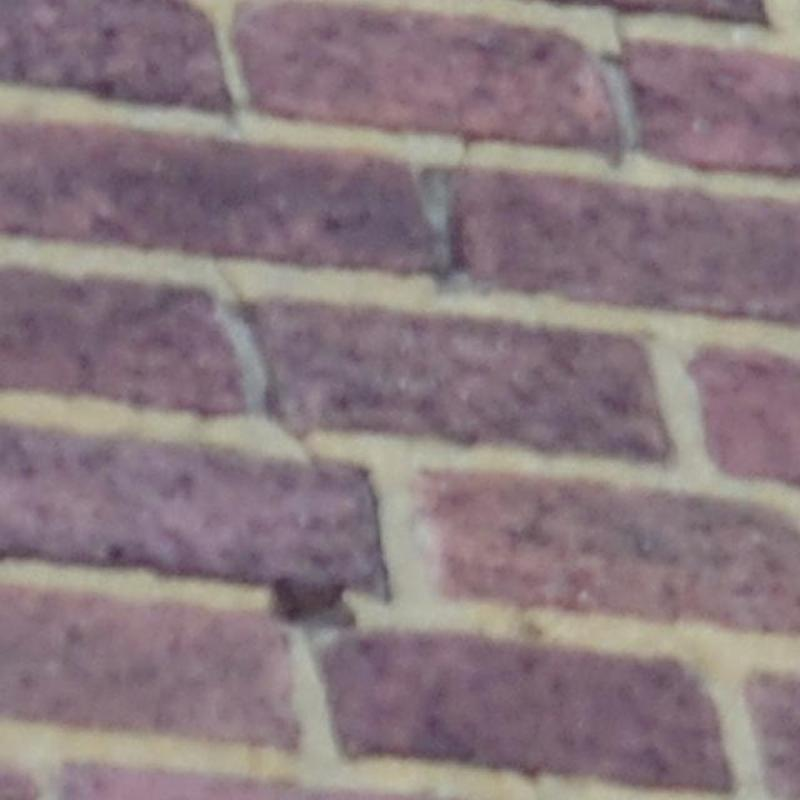pothole: (275, 581, 352, 626), (211, 256, 249, 304), (294, 431, 321, 462), (453, 139, 471, 175), (612, 10, 625, 45)
